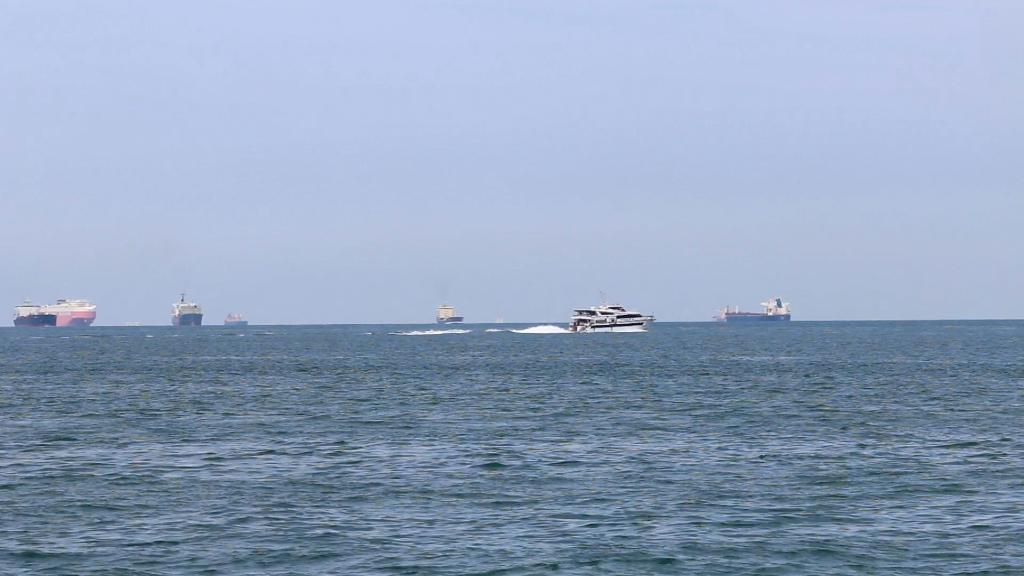PassengerShip: (558, 302, 660, 334)
